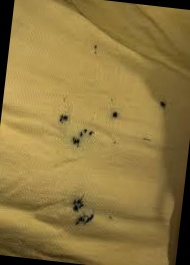ink: (71, 129, 94, 149), (76, 215, 94, 227), (70, 197, 83, 211), (59, 114, 68, 123), (158, 99, 166, 108), (112, 111, 119, 118)
